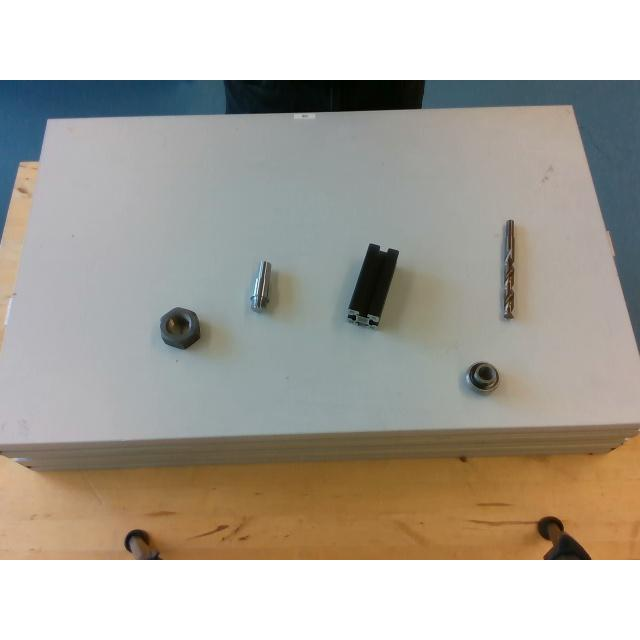Axis2: (250, 260, 270, 308)
Bearing2: (467, 361, 499, 392)
Drill: (500, 218, 516, 318)
M30: (160, 307, 200, 347)
S40_40_B: (347, 243, 397, 325)
